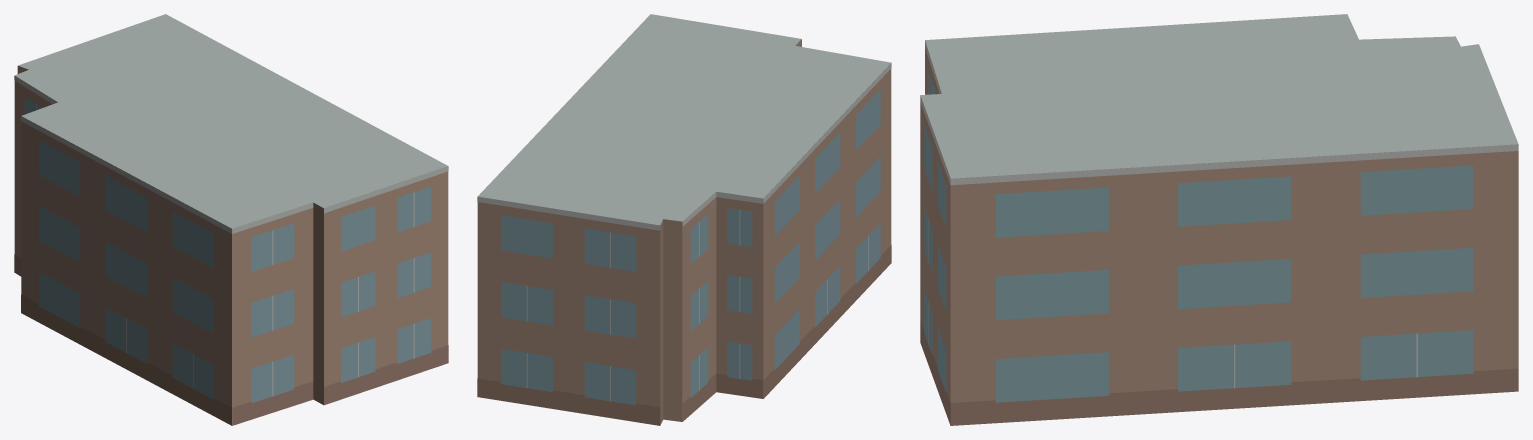
Rendered from survey-upis-32812657.glb.
3 views of the same model, side by side, from view 1: azimuth 30°, elevation 25°; view 2: azimuth 150°, elevation 25°; view 3: azimuth 270°, elevation 25° (orthographic). The views are drawn at different scales.
Visible parts, largest first — view 1: survey-upis-32812657.tmp; view 2: survey-upis-32812657.tmp; view 3: survey-upis-32812657.tmp.
Boxes of the visible parts, <box> form: survey-upis-32812657.tmp: <box>14,14,448,425</box>; survey-upis-32812657.tmp: <box>477,14,891,425</box>; survey-upis-32812657.tmp: <box>920,14,1518,425</box>.
Bounding box in the file's own units: 13.09 × 9.15 × 20.08.
